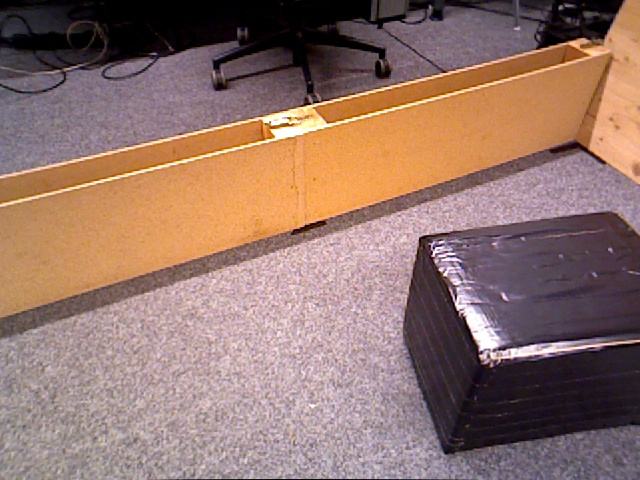push: (401, 212, 640, 452)
